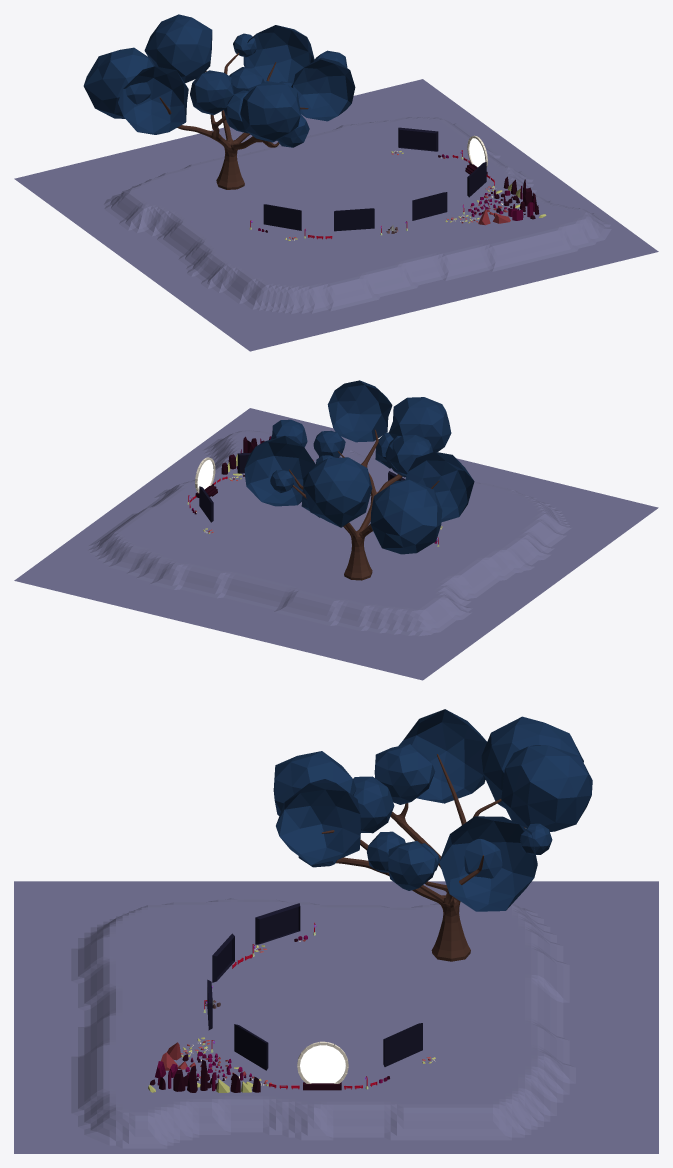
Rendered from forestOfNiko.glb.
3 views of the same model, one above another, from view 1: azimuth 30°, elevation 25°; view 2: azimuth 150°, elevation 25°; view 3: azimuth 270°, elevation 25° (orthographic). The views are drawn at different scales.
Visible parts, largest first — view 1: land, Icosphere, Plane, eldiaFrame, blogFrame, twitterFrame, taxleFrame; view 2: land, Icosphere, Plane; view 3: land, Icosphere, Plane, portalCircle, twitterFrame, eldiaFrame, cvFrame, blogFrame.
Boxes of the visible parts, <box> form: land: <box>14,79,658,351</box>; Icosphere: <box>83,14,355,147</box>; Plane: <box>159,53,308,189</box>; eldiaFrame: <box>398,127,438,151</box>; blogFrame: <box>334,208,374,231</box>; twitterFrame: <box>263,204,301,230</box>; taxleFrame: <box>412,192,447,220</box>; land: <box>14,408,658,680</box>; Icosphere: <box>244,380,474,554</box>; Plane: <box>289,429,439,580</box>; land: <box>14,881,658,1153</box>; Icosphere: <box>273,709,592,911</box>; Plane: <box>321,754,525,961</box>; portalCircle: <box>300,1045,345,1083</box>; twitterFrame: <box>255,903,300,944</box>; eldiaFrame: <box>383,1023,422,1066</box>; cvFrame: <box>234,1024,268,1070</box>; blogFrame: <box>212,933,234,982</box>.
Size of what is drawn, in the model's own units: 32.72 by 12.65 by 32.72.
